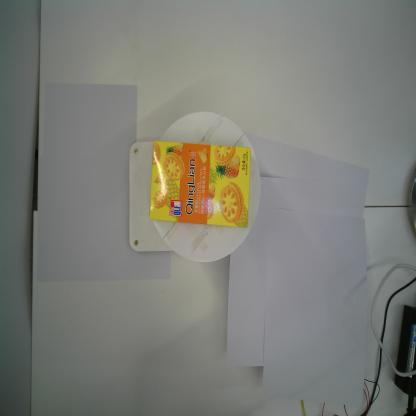Dessert: (148, 139, 252, 229)
